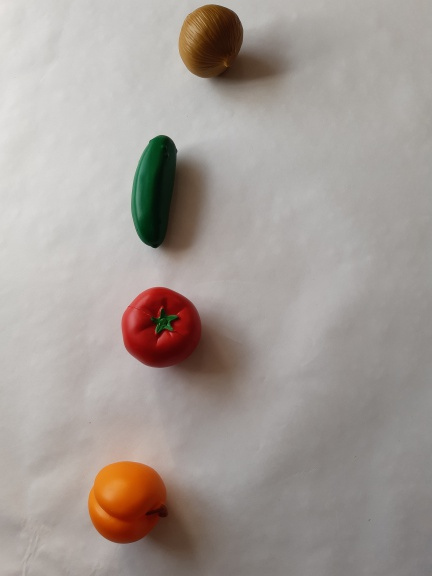apricot: (80, 458, 175, 551)
cucumber: (124, 132, 185, 253)
onion: (168, 3, 252, 86)
tomato: (117, 281, 209, 375)
